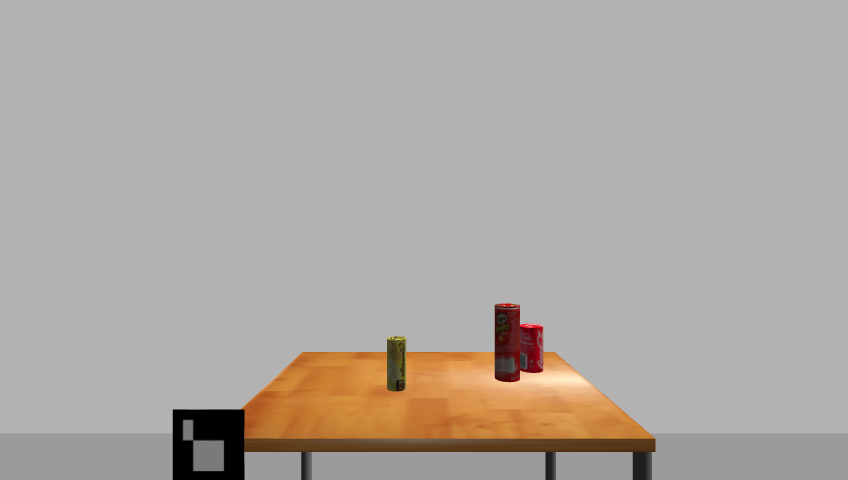aruco marker: (166, 408, 250, 480)
biscuits pack: (386, 336, 407, 393)
coke can: (517, 323, 546, 374)
dinner table: (231, 349, 662, 480)
pringles can: (492, 303, 522, 384)
